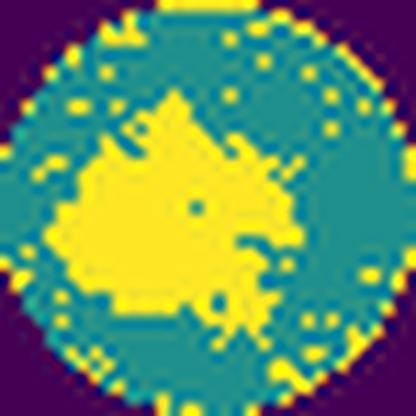Center: (45, 88, 307, 352)
